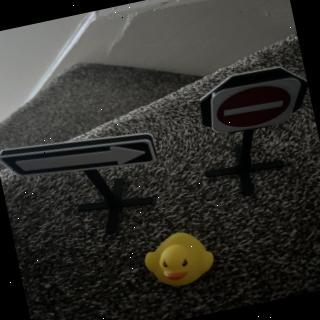duck_regular: (141, 227, 220, 295)
sign_noentry: (194, 61, 315, 141)
sign_oneway_right: (1, 119, 160, 194)
